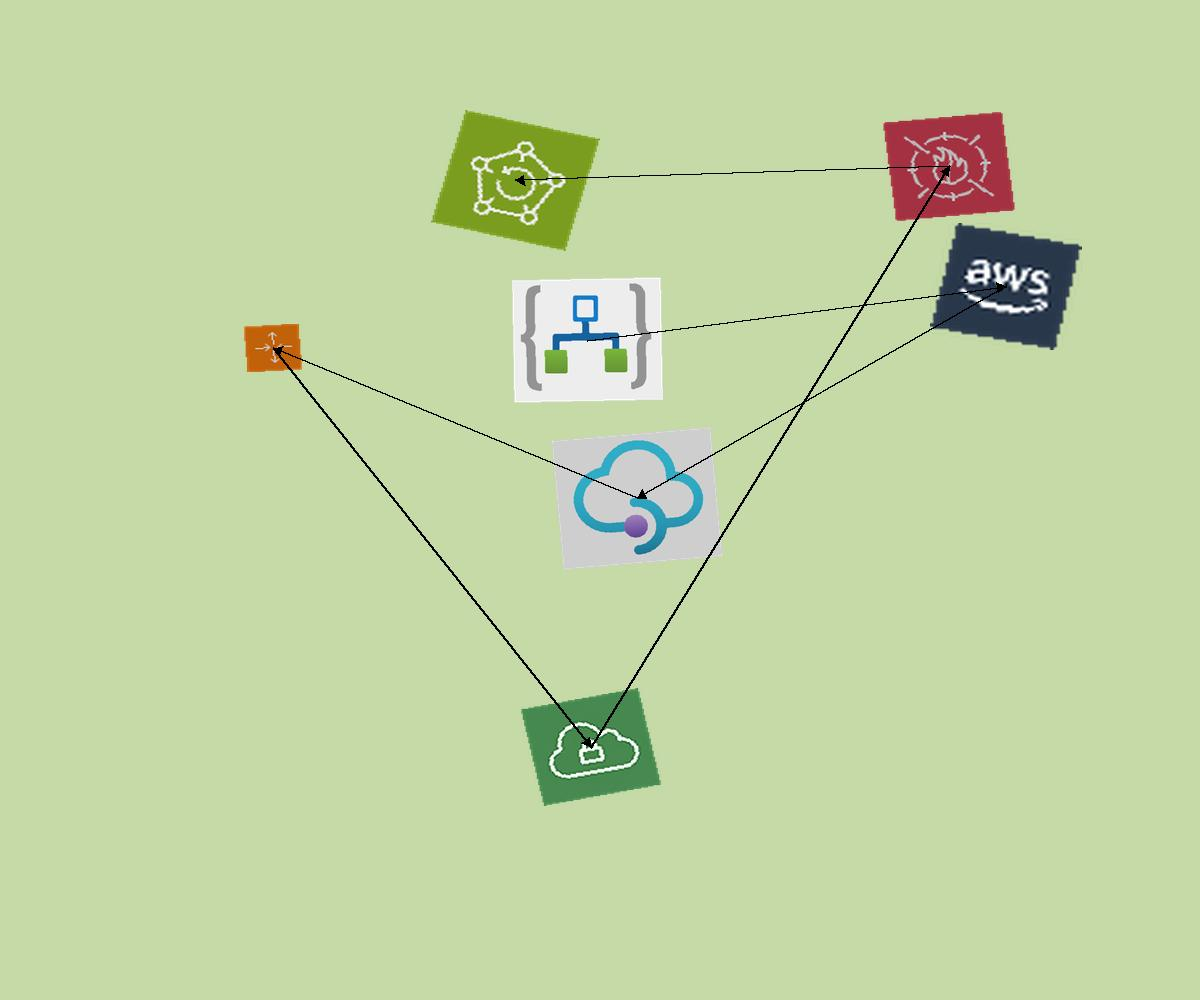AWS-Backup: (431, 110, 600, 251)
AWS-Cloud-logo: (930, 223, 1082, 350)
AWS-Private_vpc: (520, 688, 662, 806)
AWS-Scaling-group: (243, 323, 303, 373)
AWS-WAF: (882, 111, 1016, 222)
Azure_api_gateway: (551, 427, 723, 570)
Azure_integration-204-Logic-Apps: (512, 277, 663, 403)
